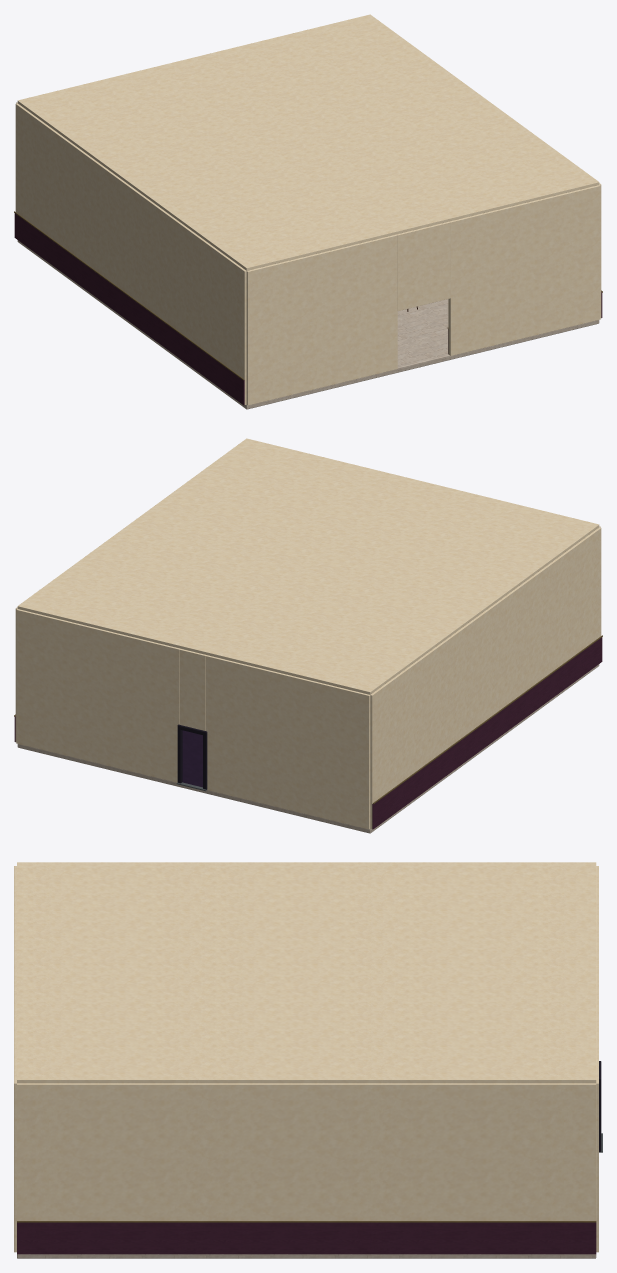
The model's file is explore3d__performance_stage.glb.
The picture shows the model from 3 angles, top to bottom: view 1: azimuth 30°, elevation 25°; view 2: azimuth 150°, elevation 25°; view 3: azimuth 270°, elevation 25°; orthographic projection. The views are drawn at different scales.
Parts seen in each view (by area): view 1: ceiling.013, wall.036, wall.033, wall.032, lower_panel.035, performance_stage_floor, door_lintel.007, panel_rail.035; view 2: ceiling.013, wall.036, wall.034, wall.035, lower_panel.035, performance_stage_floor, door_lintel.008, north.006_leaf, panel_rail.035; view 3: ceiling.013, wall.037, lower_panel.036, performance_stage_floor, panel_rail.036, wall.035, wall.032.
Boxes of the visible parts, x1,y1,x2,y2 form: ceiling.013: (17, 14, 599, 270); wall.036: (15, 103, 246, 404); wall.033: (246, 234, 397, 405); wall.032: (448, 185, 600, 355); lower_panel.035: (14, 213, 244, 405); performance_stage_floor: (17, 240, 599, 409); door_lintel.007: (397, 221, 450, 310); panel_rail.035: (14, 211, 243, 380); ceiling.013: (17, 438, 599, 694); wall.036: (370, 527, 601, 828); wall.034: (206, 655, 370, 829); wall.035: (16, 609, 180, 782); lower_panel.035: (372, 637, 602, 829); performance_stage_floor: (17, 664, 599, 833); door_lintel.008: (180, 649, 206, 730); north.006_leaf: (182, 730, 202, 787); panel_rail.035: (373, 635, 602, 804); ceiling.013: (17, 862, 596, 1083); wall.037: (17, 1083, 596, 1220); lower_panel.036: (17, 1222, 596, 1254); performance_stage_floor: (17, 1254, 596, 1258); panel_rail.036: (17, 1221, 596, 1222); wall.035: (596, 982, 598, 1252); wall.032: (14, 991, 16, 1252).
Bounding box in the file's own units: 16.32 × 6.14 × 18.3.
Materials: 14 (13 with a texture image).
